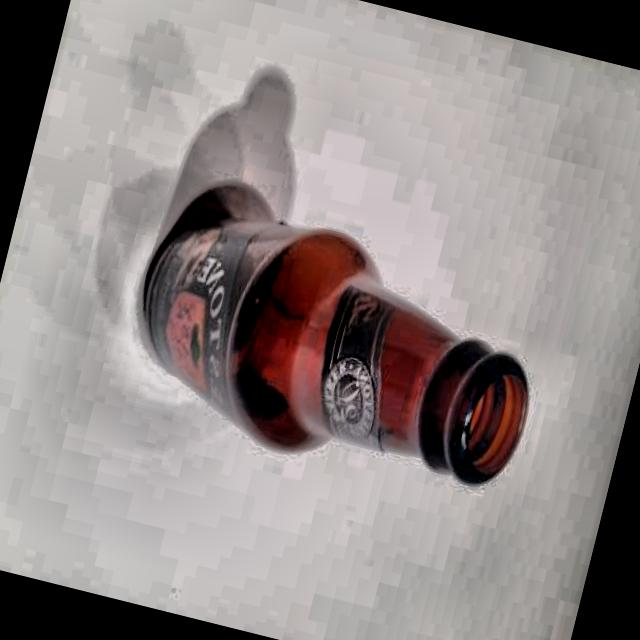glass: (108, 187, 566, 514)
